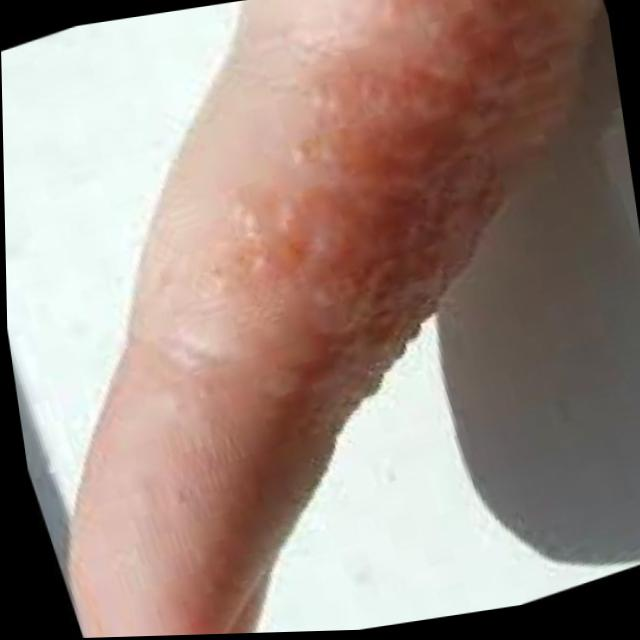Eczema: (146, 0, 590, 436)
